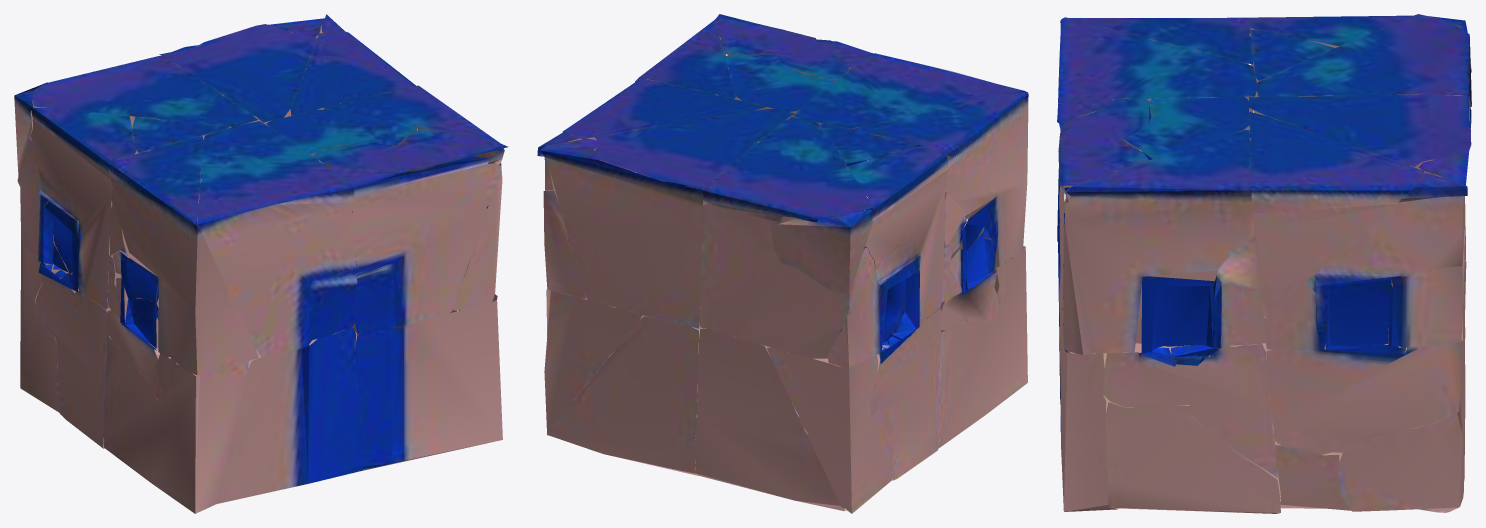
The model's file is loc_sa_bld_whitehouse.glb.
The picture shows the model from 3 angles, left to right: view 1: azimuth 30°, elevation 25°; view 2: azimuth 150°, elevation 25°; view 3: azimuth 270°, elevation 25°; orthographic projection. The views are drawn at different scales.
Parts seen in each view (by area): view 1: tripo_node_998a4a03-1c32-45fb-be15-e22ab87e7951; view 2: tripo_node_998a4a03-1c32-45fb-be15-e22ab87e7951; view 3: tripo_node_998a4a03-1c32-45fb-be15-e22ab87e7951.
Part boxes in pixels (<box>): tripo_node_998a4a03-1c32-45fb-be15-e22ab87e7951: <box>14,14,507,513</box>; tripo_node_998a4a03-1c32-45fb-be15-e22ab87e7951: <box>537,14,1028,513</box>; tripo_node_998a4a03-1c32-45fb-be15-e22ab87e7951: <box>1057,14,1471,513</box>.
Bounding box in the file's own units: 2.28 × 2.01 × 2.24.
1 material, 1 textured.
